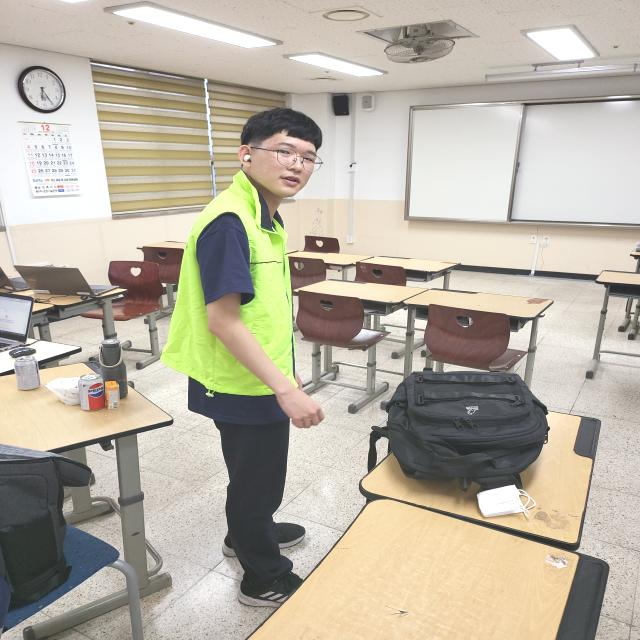weston_spy: (146, 161, 325, 418)
